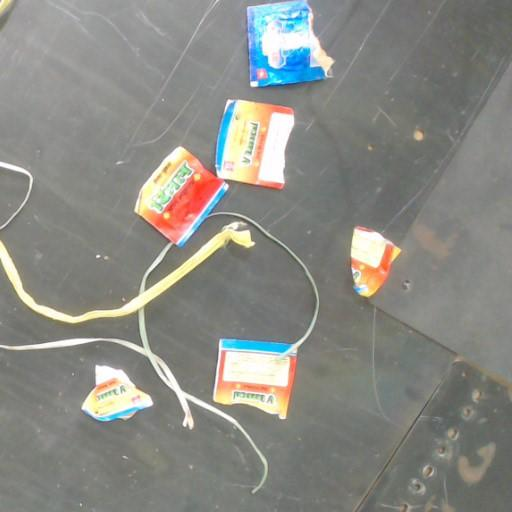conveyor belt: (0, 0, 511, 511), (147, 230, 311, 403), (181, 183, 187, 189)
packet: (136, 100, 293, 245), (248, 0, 332, 86), (213, 339, 298, 418), (64, 364, 146, 422), (351, 227, 399, 296)
thread: (0, 212, 318, 492), (0, 162, 32, 229)
